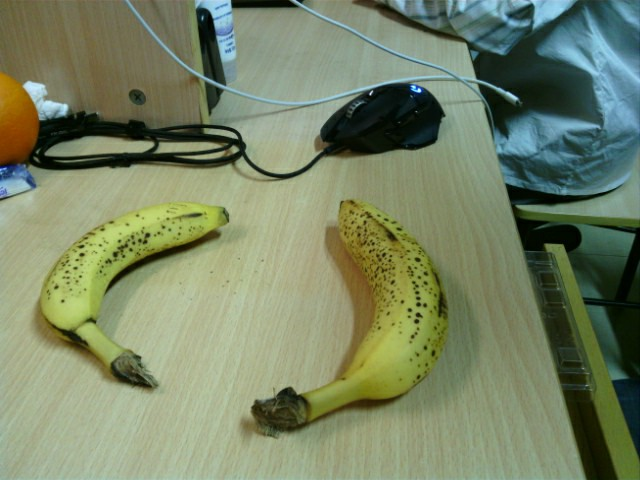normal_banana: (250, 199, 447, 436), (39, 203, 230, 392)
